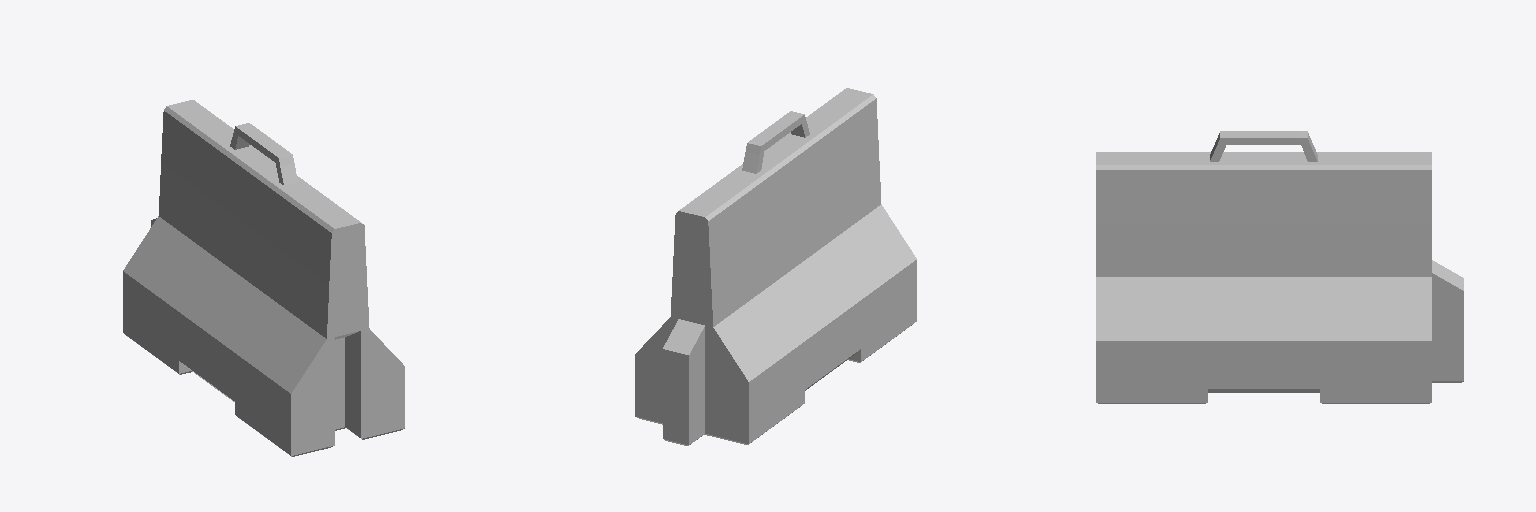
Rendered from barricade_Low.obj.
3 renders of one model, left to right at view 1: azimuth 30°, elevation 25°; view 2: azimuth 150°, elevation 25°; view 3: azimuth 270°, elevation 25°, orthographic.
Parts seen in each view (by area): view 1: Low; view 2: Low; view 3: Low.
Boxes of the visible parts, x1,y1,x2,y2 form: Low: [123, 100, 404, 456]; Low: [635, 88, 916, 445]; Low: [1096, 131, 1463, 403].
Bounding box in the file's own units: 1.62 × 3.31 × 4.55.